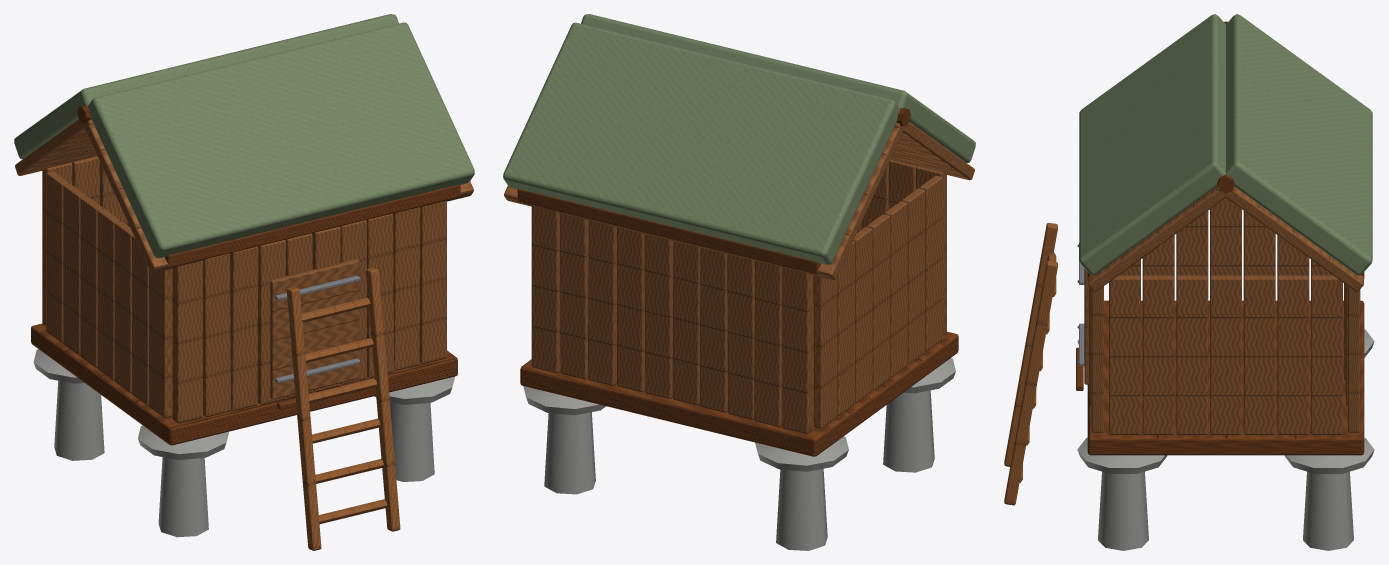
Rendered from viking-age-longhouse-and-longship-grain-store-on-stadd-bf3caa01__30182.glb.
The picture shows the model from 3 angles, left to right: view 1: azimuth 30°, elevation 25°; view 2: azimuth 150°, elevation 25°; view 3: azimuth 270°, elevation 25°; orthographic projection. The views are drawn at different scales.
Parts seen in each view (by area): view 1: grain-store-on-staddles; view 2: grain-store-on-staddles; view 3: grain-store-on-staddles.
Boxes of the visible parts, box(x1,y1,x2,y2) form: grain-store-on-staddles: box(14, 14, 474, 550); grain-store-on-staddles: box(503, 14, 975, 550); grain-store-on-staddles: box(1004, 14, 1374, 550).
Bounding box in the file's own units: 2.88 × 3.43 × 2.89.
Materials: 6 (5 with a texture image).
